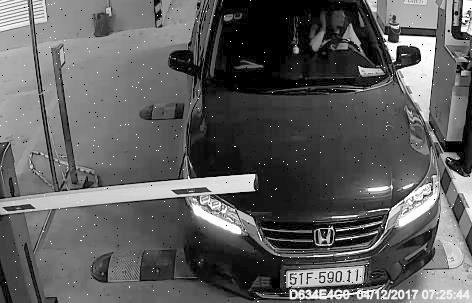License-plate: (283, 257, 372, 294)
